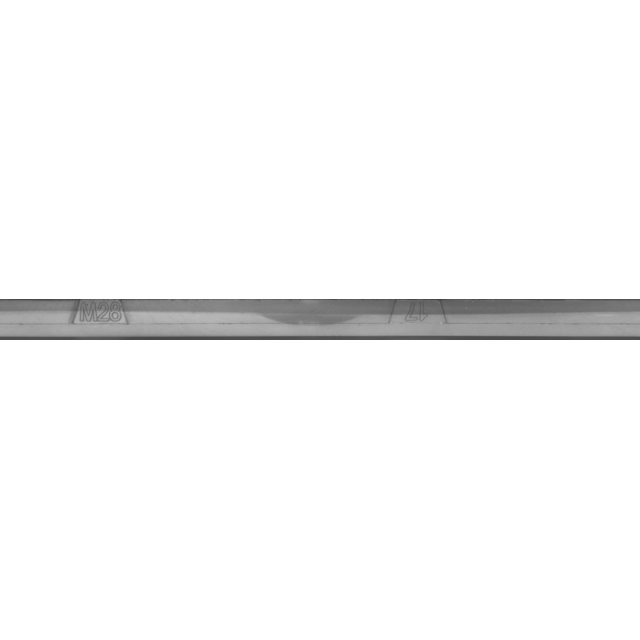mohao: (0, 270, 199, 370)
xuehao: (323, 270, 523, 370)
